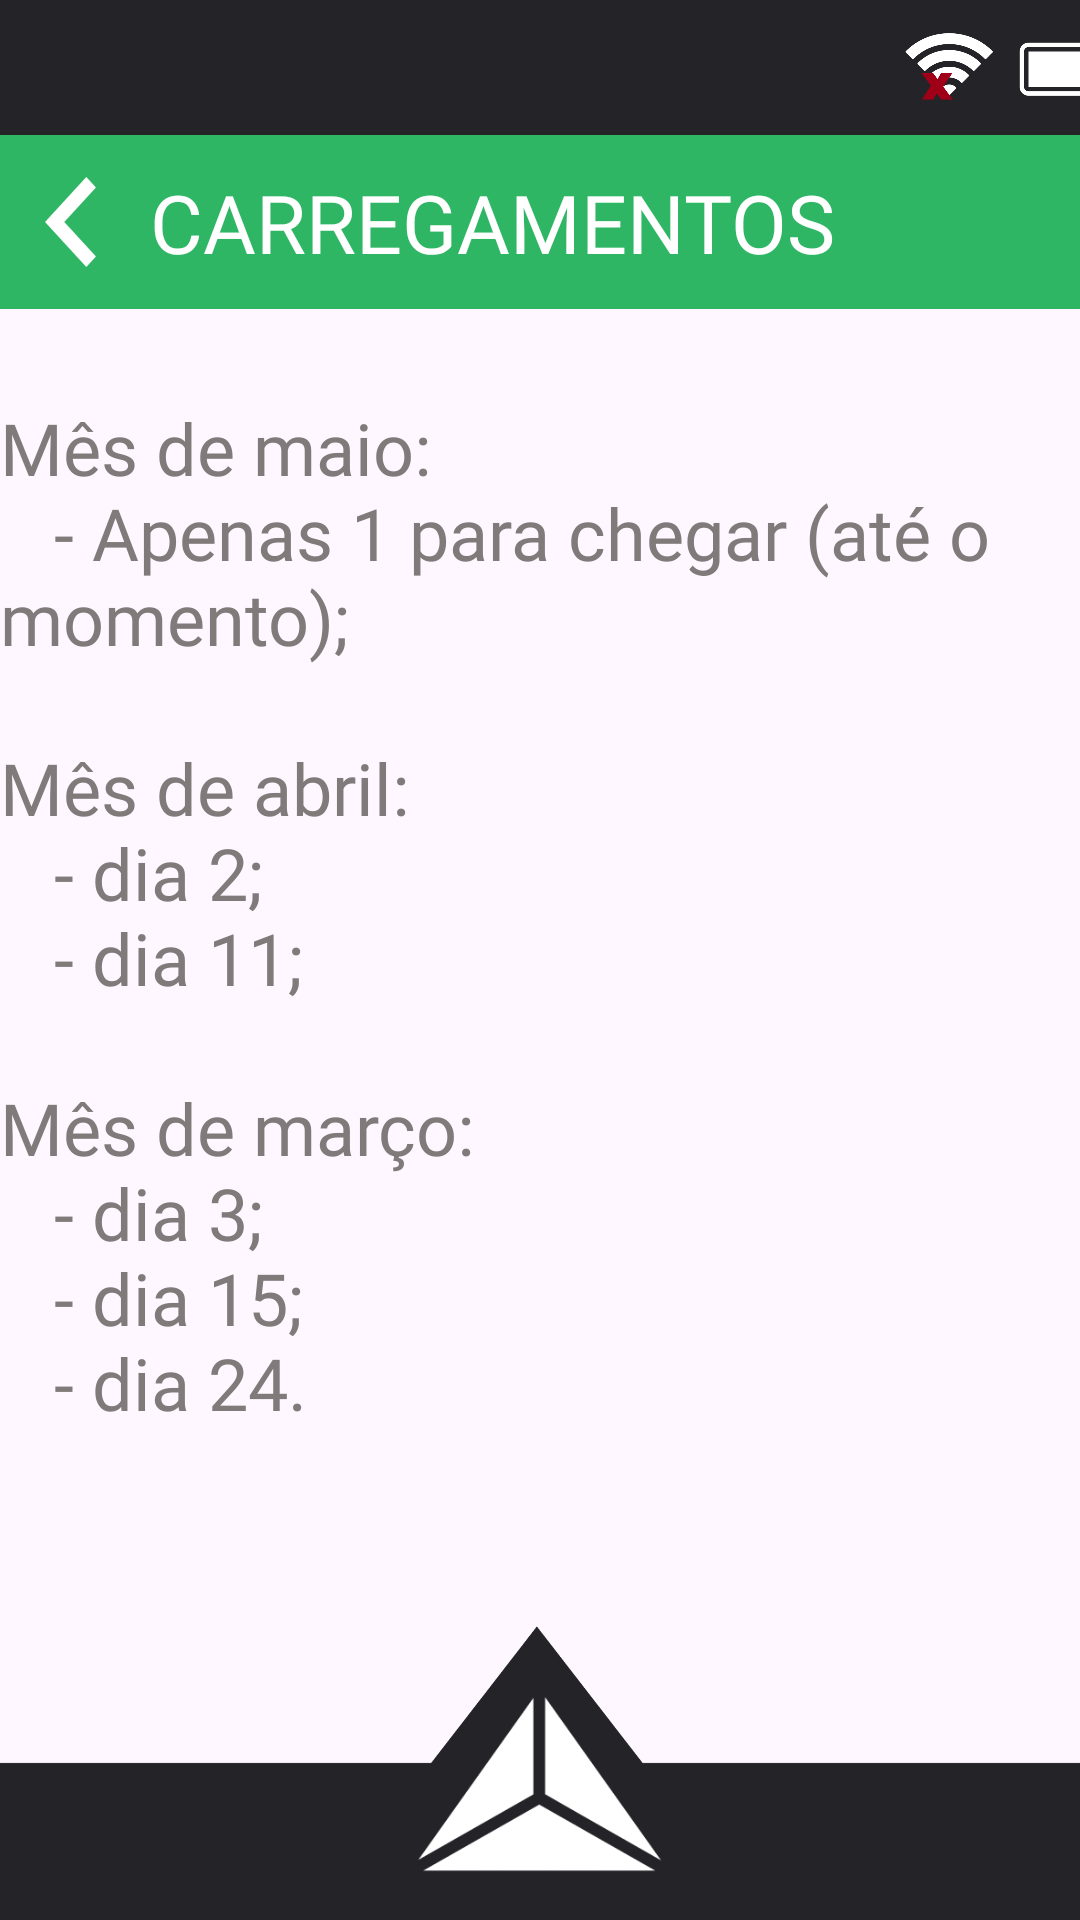

Where icons sit on this 1080 x 1920 app screen, as (x1, y1, x2, y2):
btnvoltaremail: (45, 177, 96, 267)
